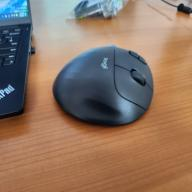mouse: (51, 43, 154, 130)
